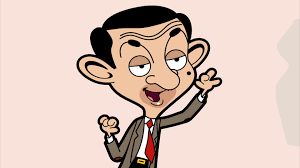mrbean: (75, 5, 223, 168)
